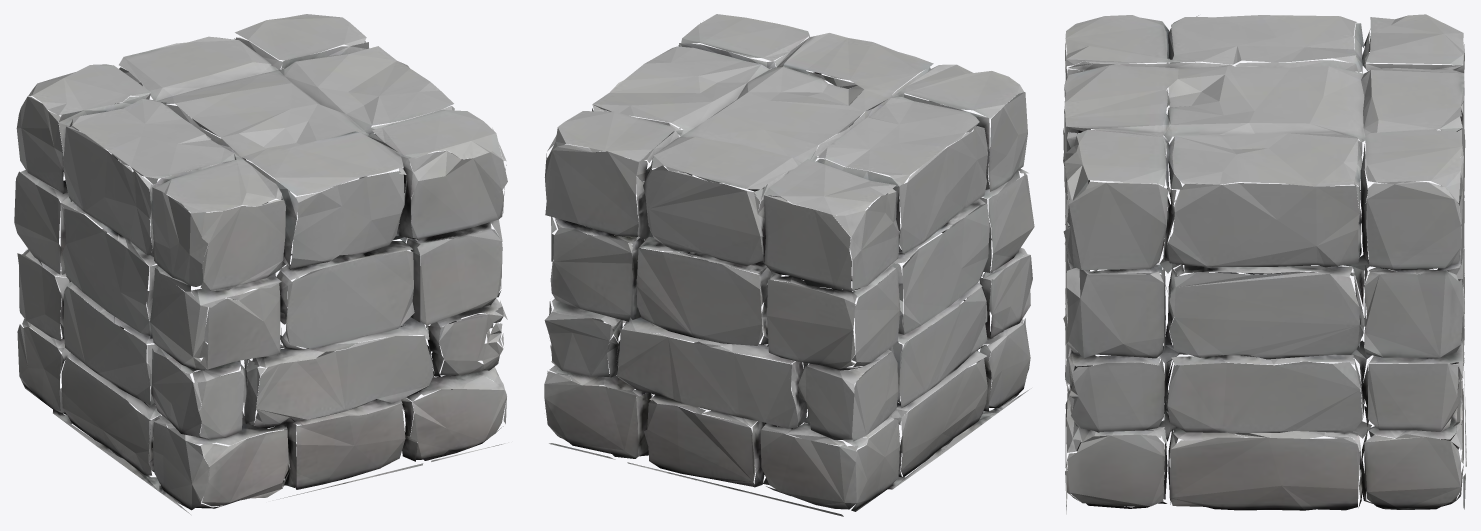
File: block.glb
3 views of the same model, side by side, from view 1: azimuth 30°, elevation 25°; view 2: azimuth 150°, elevation 25°; view 3: azimuth 270°, elevation 25° (orthographic). The views are drawn at different scales.
Parts seen in each view (by area): view 1: textured_mesh.obj; view 2: textured_mesh.obj; view 3: textured_mesh.obj.
Part boxes in pixels (x1,y1,x2,y2): textured_mesh.obj: (14, 14, 508, 515); textured_mesh.obj: (544, 14, 1034, 516); textured_mesh.obj: (1063, 14, 1466, 514).
Size of the model in its own units: 1.98 by 1.82 by 1.97.
Materials: 1 (1 with a texture image).
